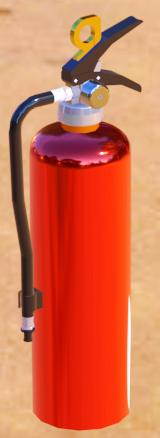fire_extinguisher: (0, 1, 160, 438)
